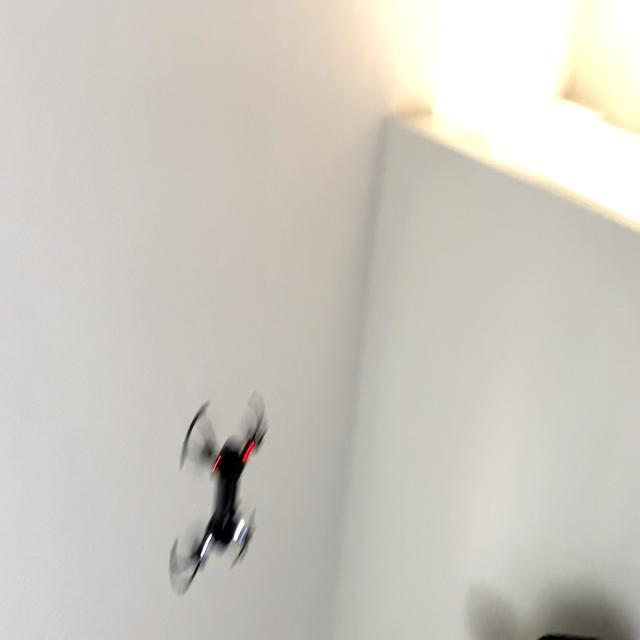drone: (160, 375, 277, 612)
